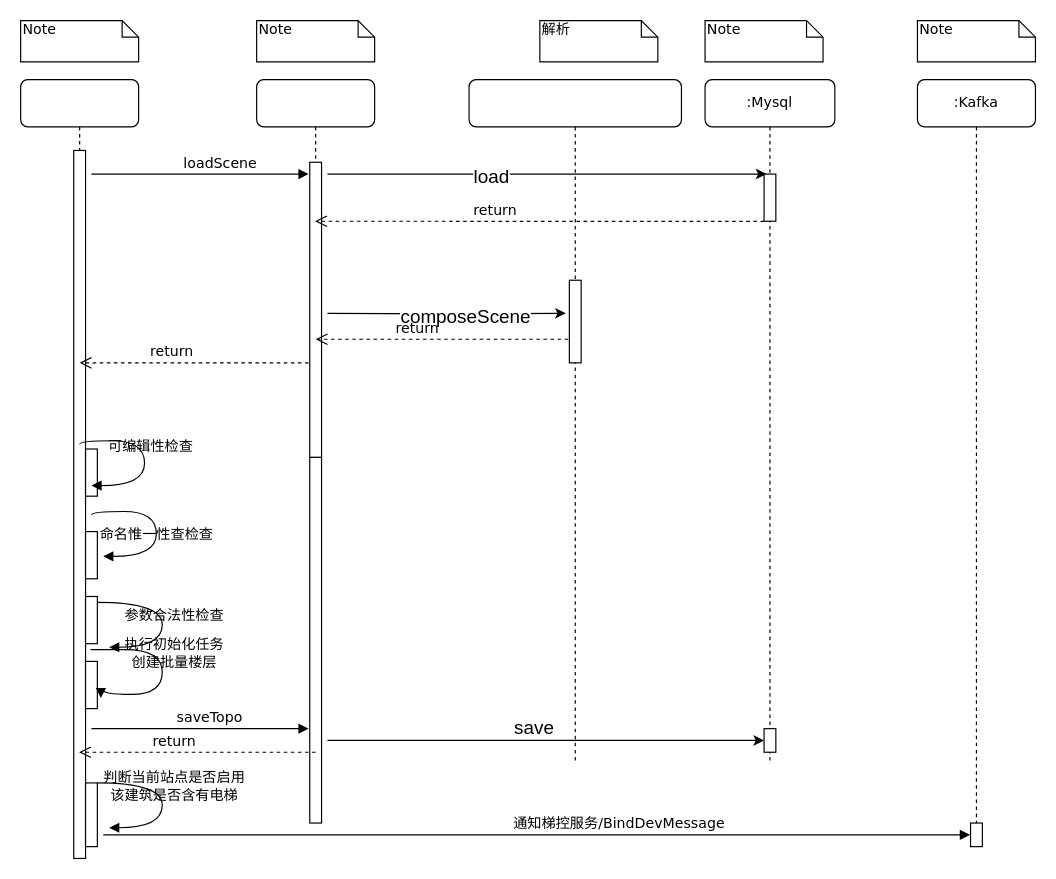
The diagram is 1056 pixels wide and 879 high, and some of its shapes have lost their labels. Each missing label, with the box of its shape:
: AbstractSceneFactory: (468, 78, 681, 764)
:SceneService: (255, 78, 375, 823)
:SiteService: (19, 78, 139, 858)
